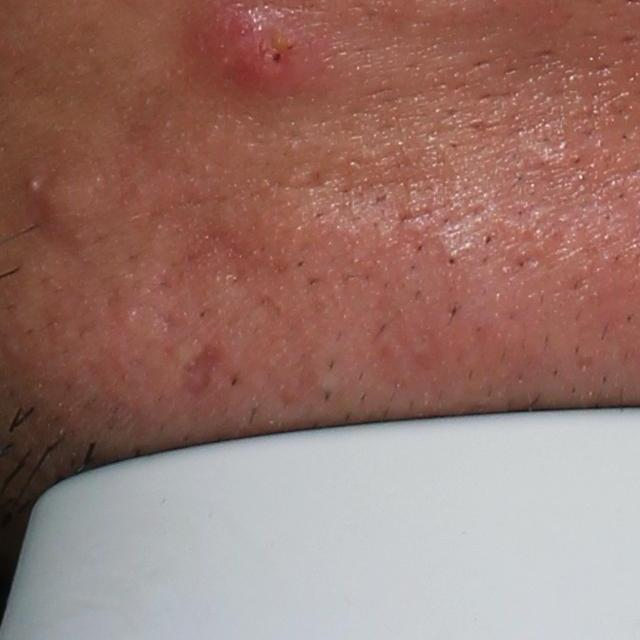atrophic_scar: (118, 103, 302, 331), (171, 342, 224, 396)
comedo: (23, 174, 41, 191)
papule: (34, 178, 95, 245)
